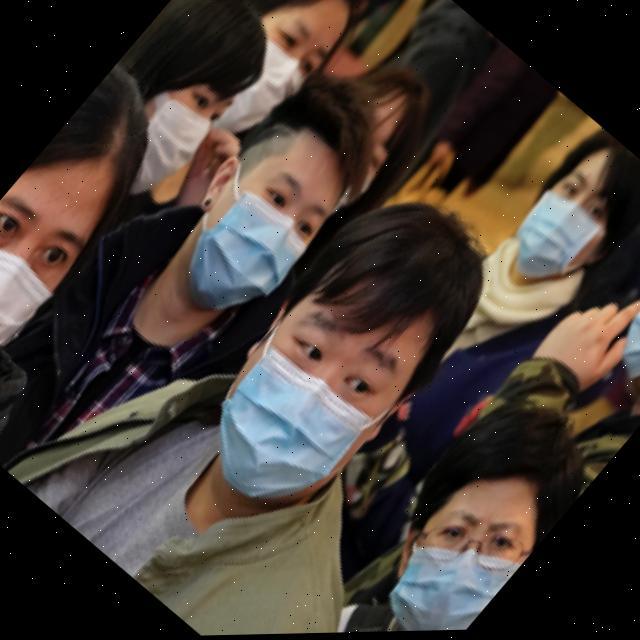Mask: (180, 319, 395, 538), (140, 147, 328, 338), (362, 501, 521, 634), (495, 179, 614, 302), (95, 83, 213, 206), (197, 33, 310, 153), (0, 224, 56, 413), (601, 264, 640, 409)
